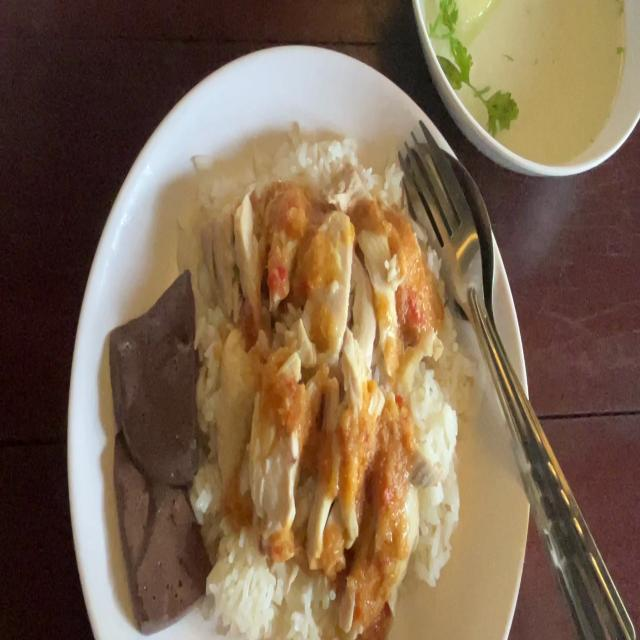boiled_chicken: (210, 201, 418, 559)
boiled_chicken_blood_jelly: (108, 266, 205, 487), (110, 428, 203, 612)
chicken_rice: (108, 144, 462, 640)
